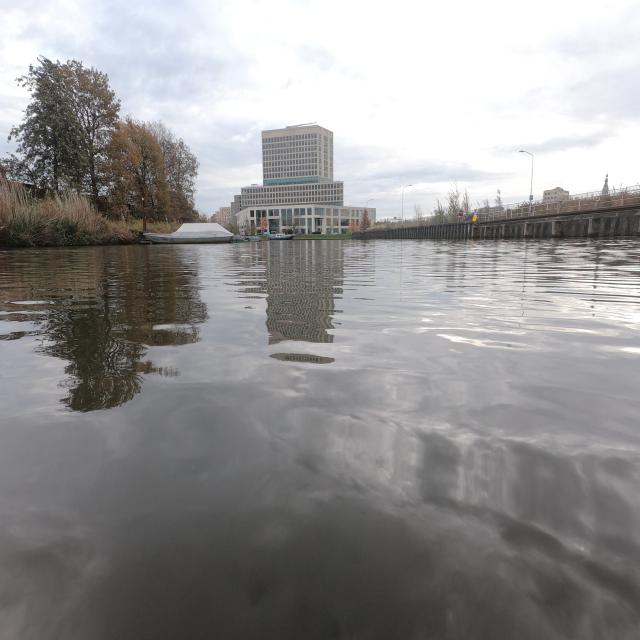boat: (141, 223, 235, 244), (268, 233, 293, 241)
reed: (0, 181, 137, 247)
wall: (352, 185, 640, 240)
water: (0, 239, 640, 640)
